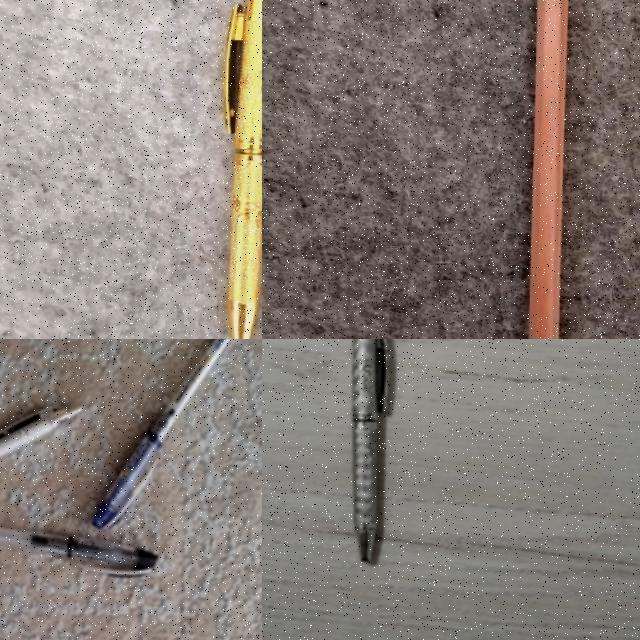pen: (94, 339, 228, 532), (0, 520, 155, 572)
pencil: (529, 0, 567, 338)
signature pen: (222, 0, 262, 339), (352, 339, 388, 562), (0, 401, 76, 506)
